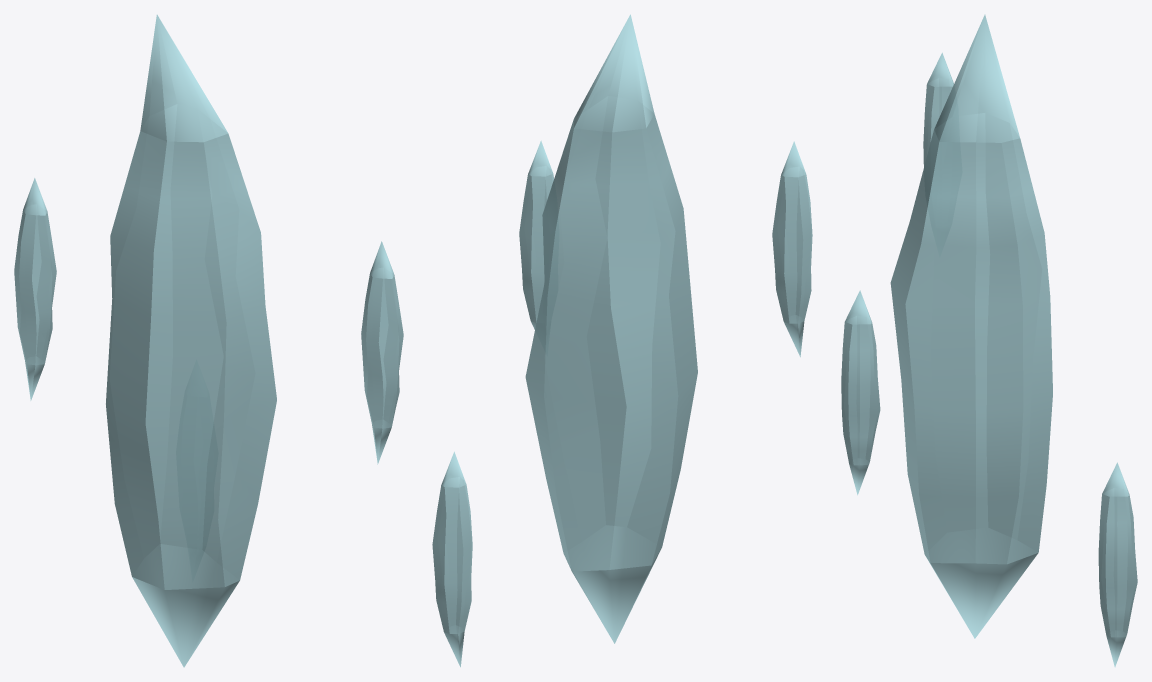
The model's file is Pickup_Ice.fbx.
The picture shows the model from 3 angles, left to right: view 1: azimuth 30°, elevation 25°; view 2: azimuth 150°, elevation 25°; view 3: azimuth 270°, elevation 25°; orthographic projection. The views are drawn at different scales.
Parts seen in each view (by area): view 1: pCylinder6; view 2: pCylinder6; view 3: pCylinder6.
Part boxes in pixels (x1,y1,x2,y2): pCylinder6: (14, 14, 403, 667); pCylinder6: (432, 14, 812, 667); pCylinder6: (841, 14, 1137, 667).
Size of the model in its own units: 68.05 by 126 by 55.1.
